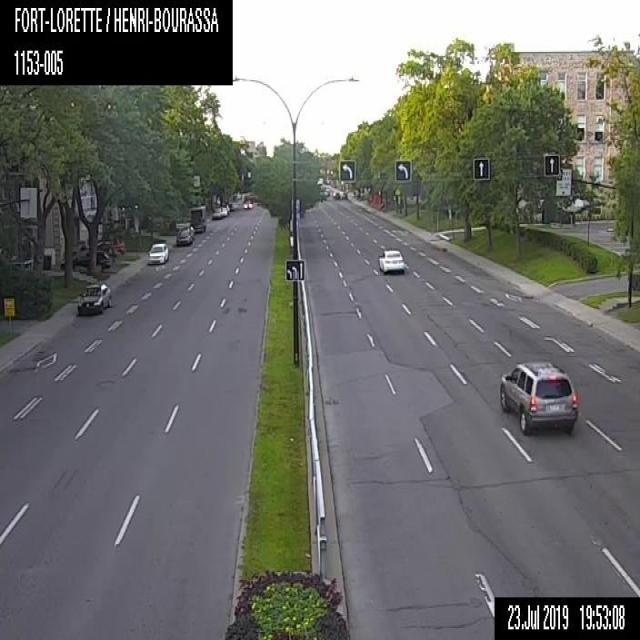vehicle: (498, 358, 578, 434), (76, 280, 113, 314), (60, 249, 109, 274), (377, 248, 404, 273), (96, 234, 124, 253), (173, 222, 194, 247), (188, 204, 206, 232), (146, 242, 168, 264), (211, 205, 223, 220), (241, 195, 252, 208), (332, 190, 339, 199), (224, 203, 229, 213), (341, 191, 347, 199), (222, 206, 226, 216)
